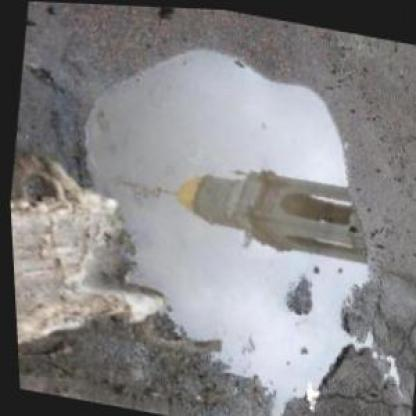pothole: (41, 25, 410, 415)
